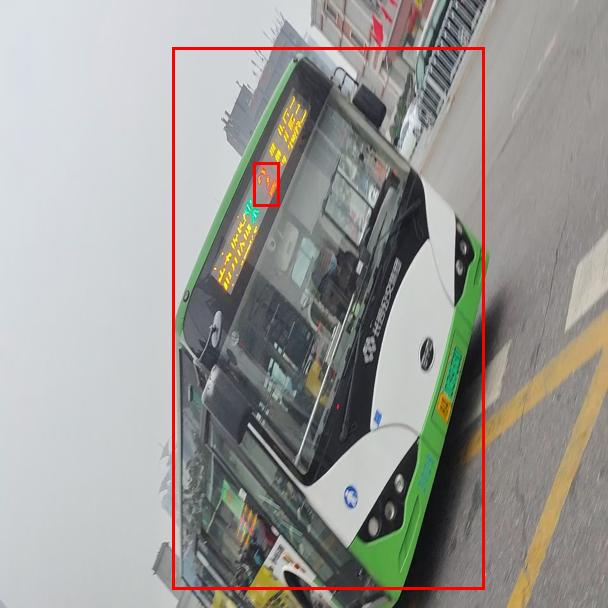bus: (172, 47, 484, 589)
screen: (253, 162, 279, 206)
